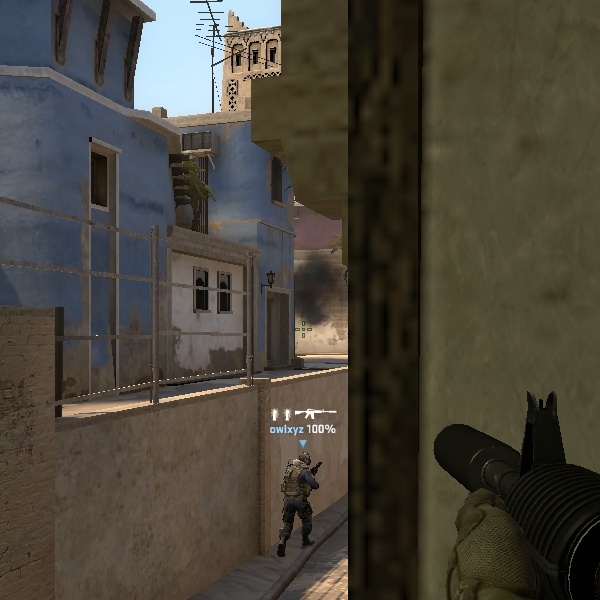ct_head: (295, 449, 315, 470)
t_body: (270, 444, 331, 553)
